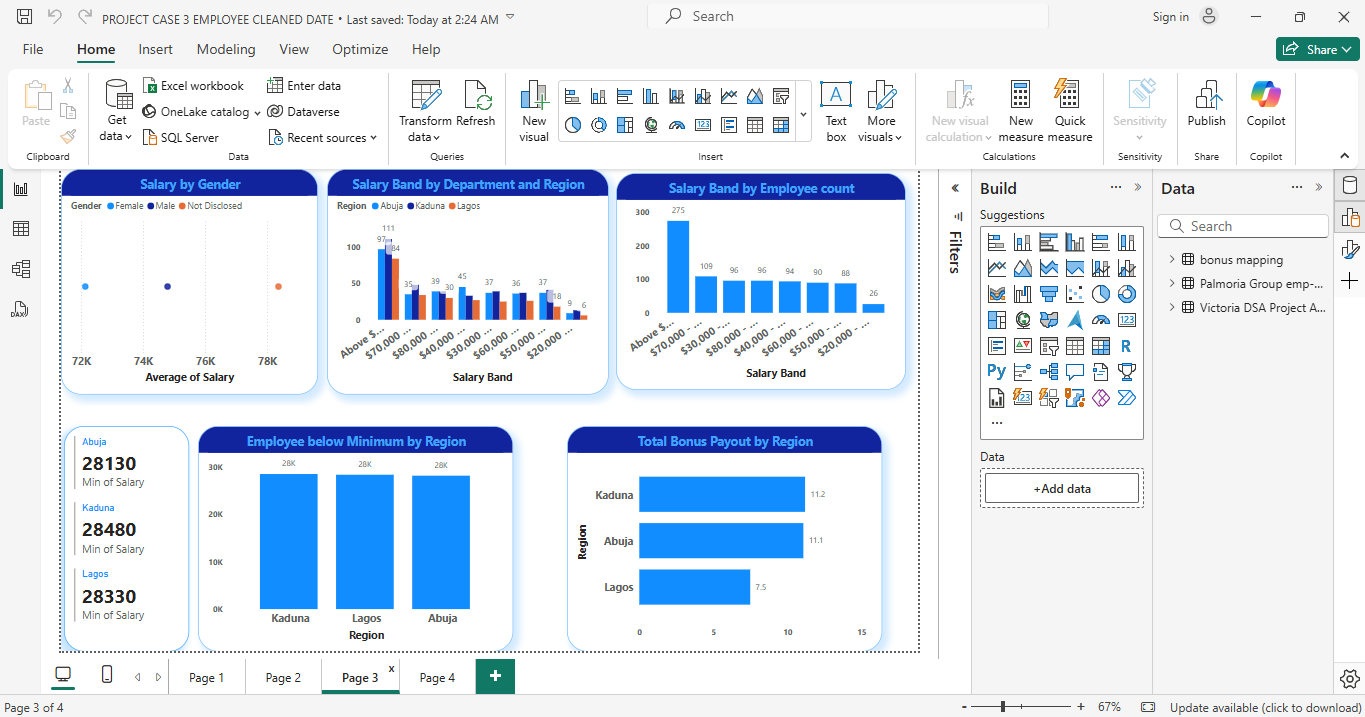

Layout of this report page (visuals, bound fields, positions):
{"tool":"powerbi","page":{"name":"Page 3","canvas":[1280,720],"ordinal":2},"visuals":[{"type":"scatterChart","title":"Salary by Gender","fields":{"X":["Avg(Victoria DSA Project Analysis Case #.Salary)"],"Category":["Victoria DSA Project Analysis Case #.Gender"],"Series":["Victoria DSA Project Analysis Case #.Gender"]},"box":[0,0,384.1,336.5],"z":0},{"type":"lineClusteredColumnComboChart","title":"Salary Band by Department and Region","fields":{"Category":["Victoria DSA Project Analysis Case #.Salary Band"],"Series":["Victoria DSA Project Analysis Case #.Region"],"Y":["CountNonNull(Victoria DSA Project Analysis Case #.Department)"]},"box":[396.8,0,420.6,336.5],"z":1000},{"type":"lineClusteredColumnComboChart","title":"Salary Band by Employee count","fields":{"Category":["Victoria DSA Project Analysis Case #.Salary Band"],"Y":["Count(Victoria DSA Project Analysis Case #.Employee)"]},"box":[828.6,6.3,433.3,323.8],"z":2000},{"type":"lineClusteredColumnComboChart","title":"Employee below Minimum by Region","fields":{"Y":["Min(Victoria DSA Project Analysis Case #.Salary)"],"Category":["Victoria DSA Project Analysis Case #.Region"]},"box":[204.8,384.1,471.4,336.5],"z":3000},{"type":"multiRowCard","fields":{"Values":["Victoria DSA Project Analysis Case #.Region","Min(Victoria DSA Project Analysis Case #.Salary)"]},"box":[4.8,384.1,187.3,336.5],"z":4000},{"type":"clusteredBarChart","title":"Total Bonus Payout by Region","fields":{"Y":["Sum(Victoria DSA Project Analysis Case #.Bonus Rate)"],"Category":["Victoria DSA Project Analysis Case #.Region"]},"box":[755.6,384.1,471.4,336.5],"z":5000}]}

Visuals, with their boxes on the page's 1280x720 design canvas (x1, y1, x2, y2). These are canvas units, not pixel positions in the 1365x717 screenshot, which may show the page scaled, cropped or inside an application window:
"Salary by Gender" scatterChart: left=0, top=0, right=384, bottom=336
"Salary Band by Department and Region" lineClusteredColumnComboChart: left=397, top=0, right=817, bottom=336
"Salary Band by Employee count" lineClusteredColumnComboChart: left=829, top=6, right=1262, bottom=330
"Employee below Minimum by Region" lineClusteredColumnComboChart: left=205, top=384, right=676, bottom=721
multiRowCard - Victoria DSA Project Analysis Case #.Region x Min(Victoria DSA Project Analysis Case #.Salary): left=5, top=384, right=192, bottom=721
"Total Bonus Payout by Region" clusteredBarChart: left=756, top=384, right=1227, bottom=721
